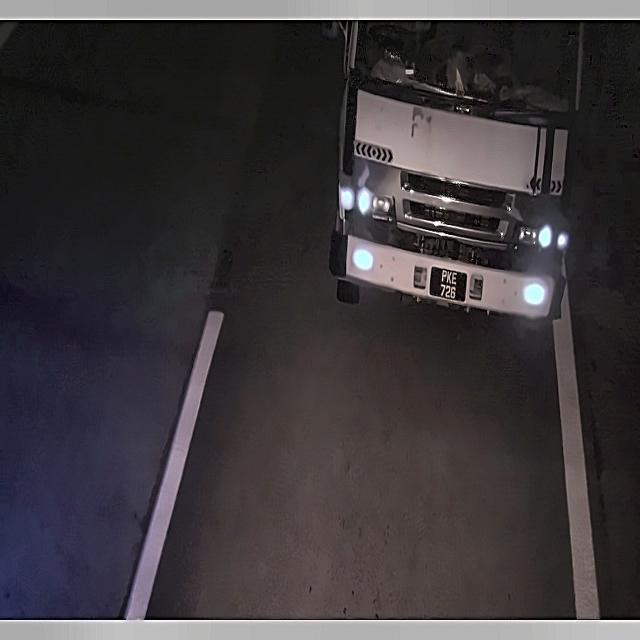car: (428, 261, 470, 309)
